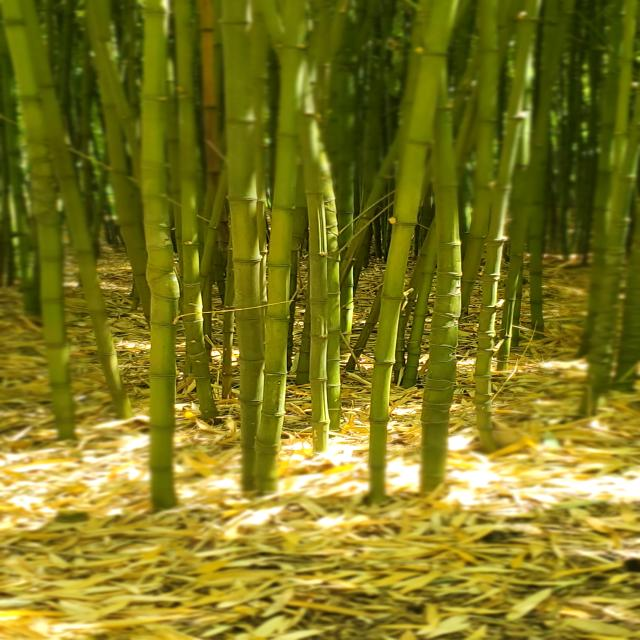Running: (117, 7, 542, 537)
